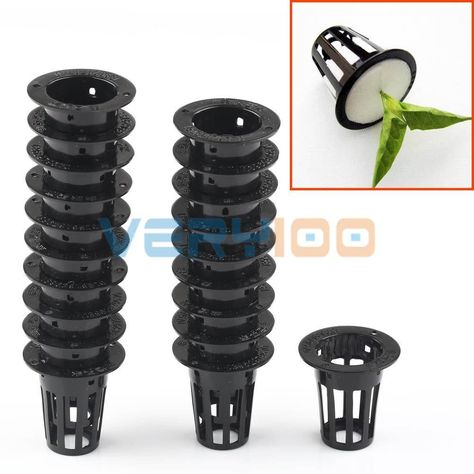basket: (294, 325, 411, 453), (167, 337, 287, 455), (306, 16, 424, 133), (18, 341, 129, 461), (172, 86, 283, 152), (26, 61, 150, 120), (22, 191, 141, 244)
